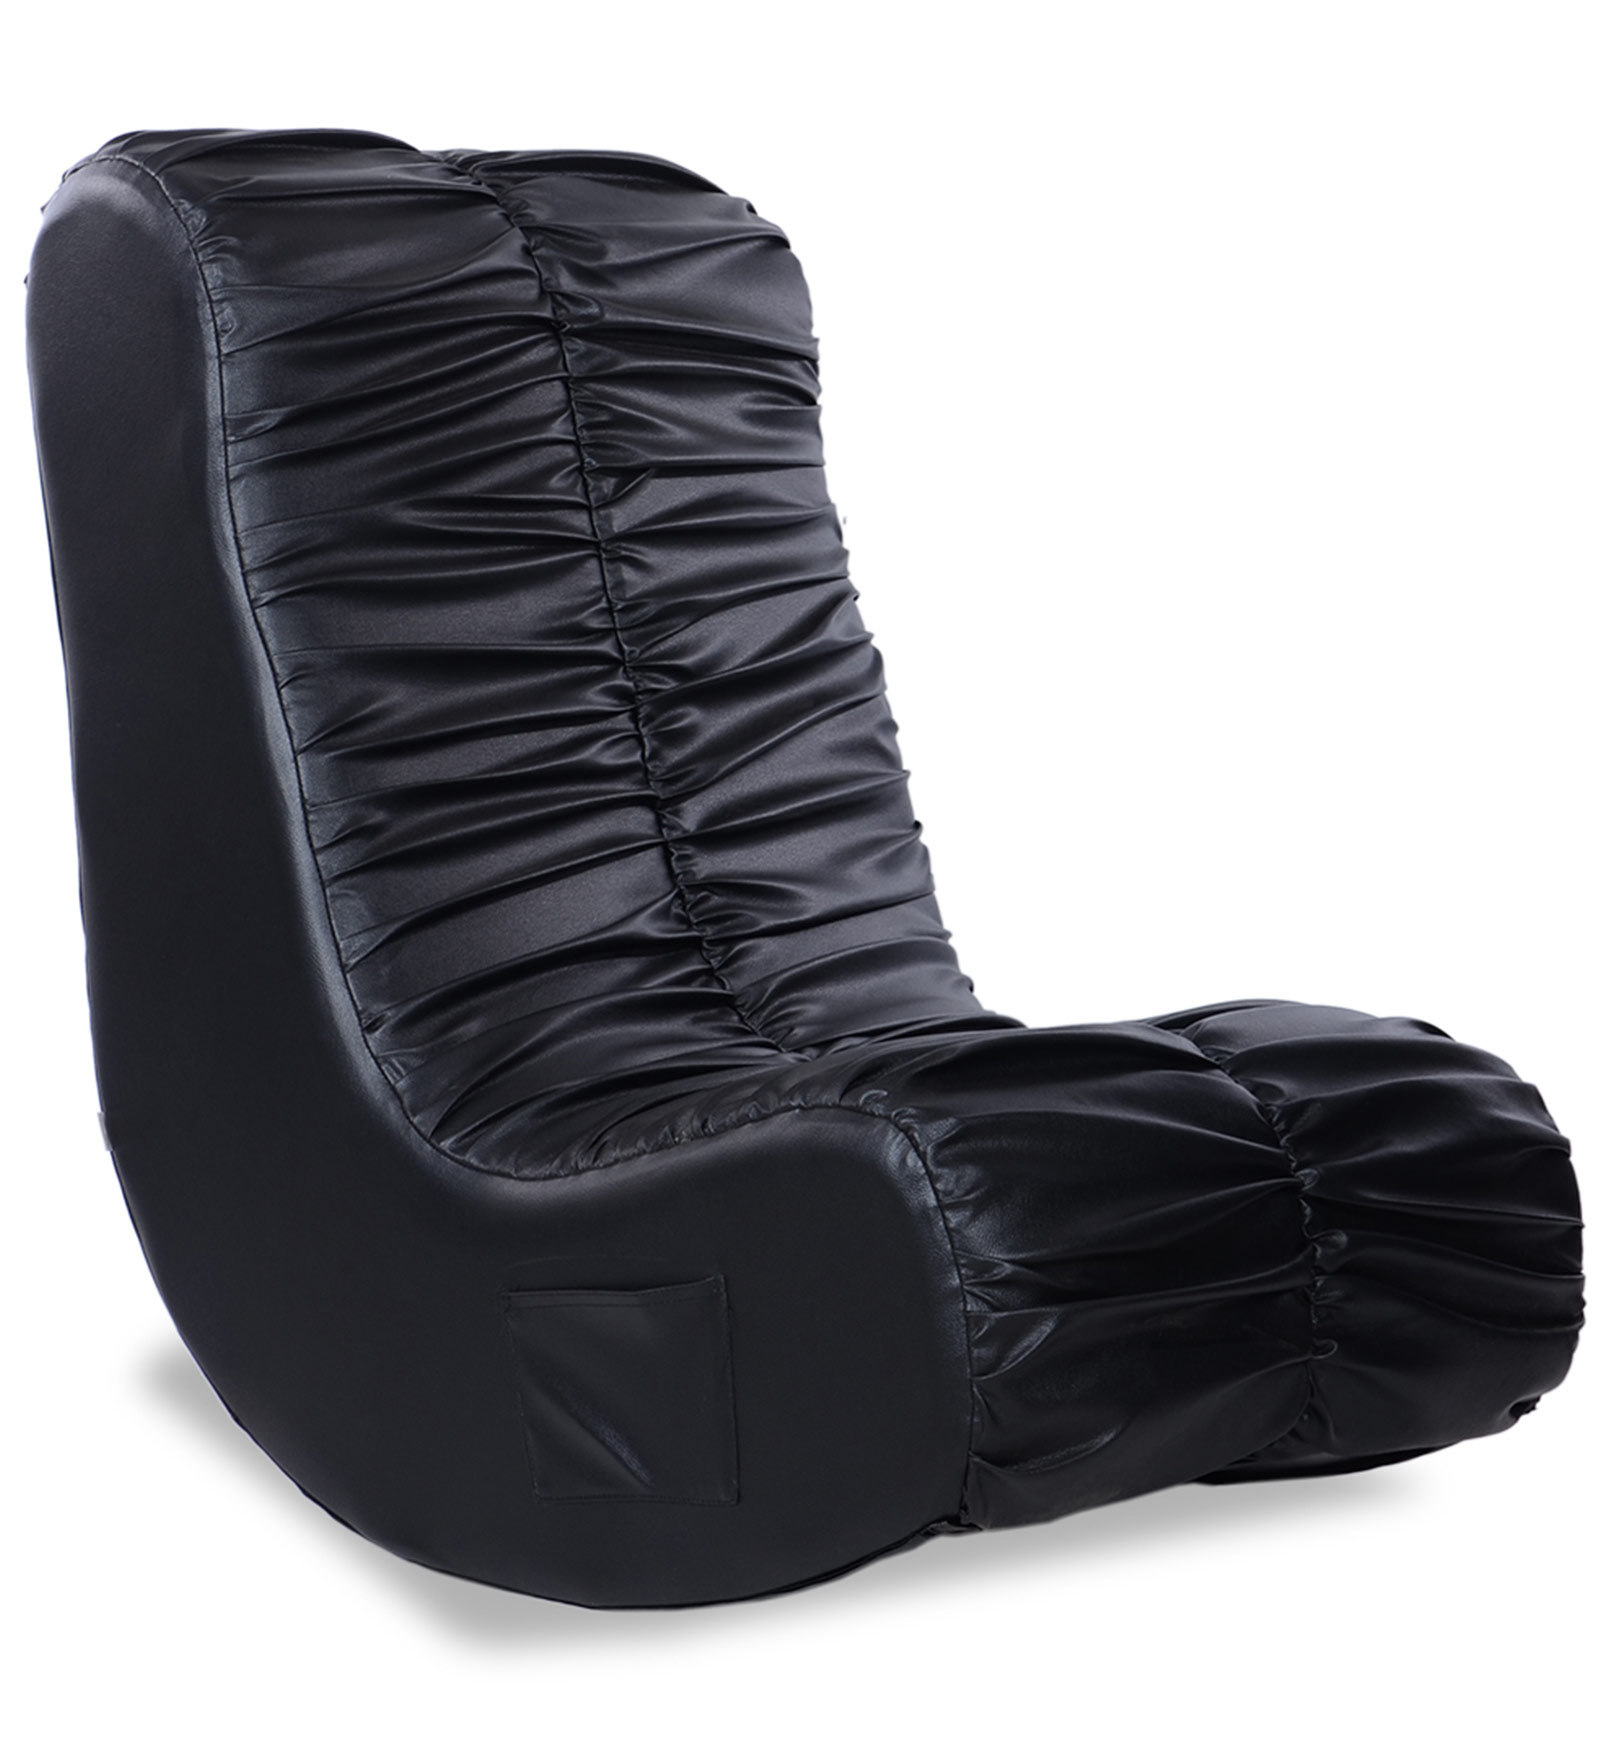Low Seat Rocking Chair in Black Leatherette by Durian: (15, 120, 1598, 1607)
